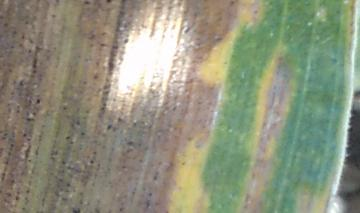tarspot: (346, 1, 359, 27), (31, 44, 42, 74), (48, 138, 58, 162), (24, 142, 32, 161), (120, 148, 137, 154), (86, 32, 97, 41), (122, 36, 131, 46), (182, 25, 192, 34), (331, 55, 339, 66), (152, 170, 159, 182), (126, 139, 135, 148), (70, 205, 80, 213), (98, 41, 108, 49), (24, 115, 35, 122), (104, 123, 112, 132), (87, 41, 96, 49), (116, 115, 125, 123), (34, 144, 40, 156), (170, 104, 178, 113), (92, 72, 99, 82), (34, 97, 42, 105), (17, 79, 25, 87), (1, 20, 9, 28), (74, 118, 81, 127), (120, 163, 127, 172), (178, 160, 187, 167), (60, 104, 68, 111), (252, 8, 260, 15), (91, 149, 98, 157), (145, 200, 150, 211), (15, 194, 21, 203), (82, 1, 92, 6), (15, 103, 20, 113), (79, 130, 86, 137), (64, 134, 71, 141), (348, 29, 355, 36), (50, 11, 57, 18), (130, 190, 137, 197), (137, 156, 144, 163), (103, 1, 115, 5), (88, 158, 94, 166), (26, 47, 32, 55), (187, 134, 193, 142), (20, 32, 26, 40), (93, 206, 99, 213), (118, 206, 124, 213), (31, 110, 37, 117), (82, 79, 89, 85), (147, 190, 152, 198), (229, 1, 235, 7), (106, 207, 112, 213), (132, 121, 138, 127), (60, 159, 66, 165), (21, 132, 28, 137), (65, 182, 72, 187), (162, 209, 170, 213), (23, 19, 28, 24), (53, 1, 61, 4)
